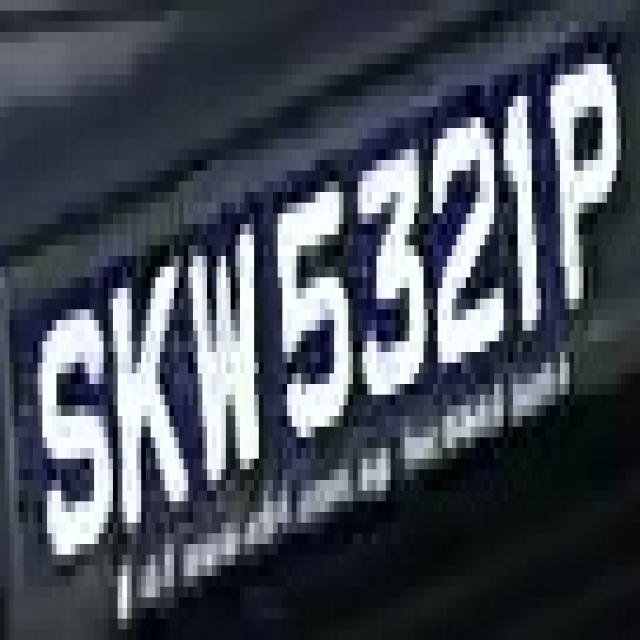1: (490, 85, 550, 384)
2: (419, 96, 513, 416)
3: (344, 139, 428, 437)
5: (264, 181, 362, 459)
K: (99, 246, 188, 534)
P: (541, 64, 640, 341)
S: (28, 299, 118, 576)
W: (184, 246, 278, 502)
